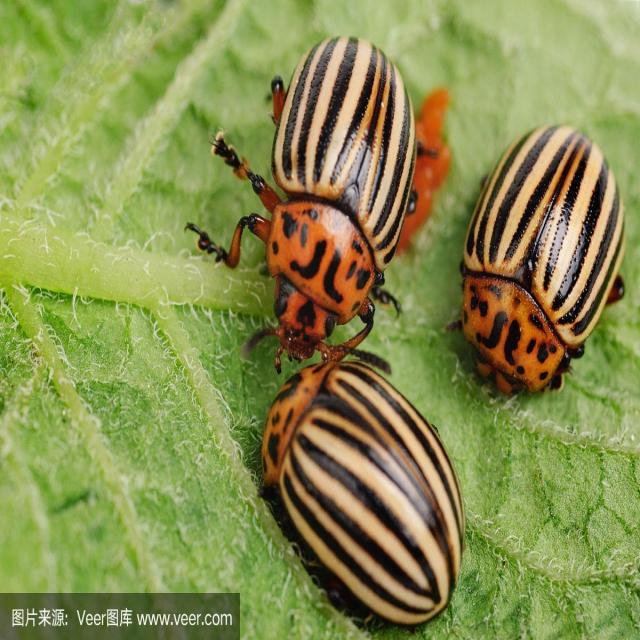ShuCaiHuaBanChong-Grown-: (256, 359, 472, 616), (255, 13, 415, 347), (461, 107, 622, 413)
